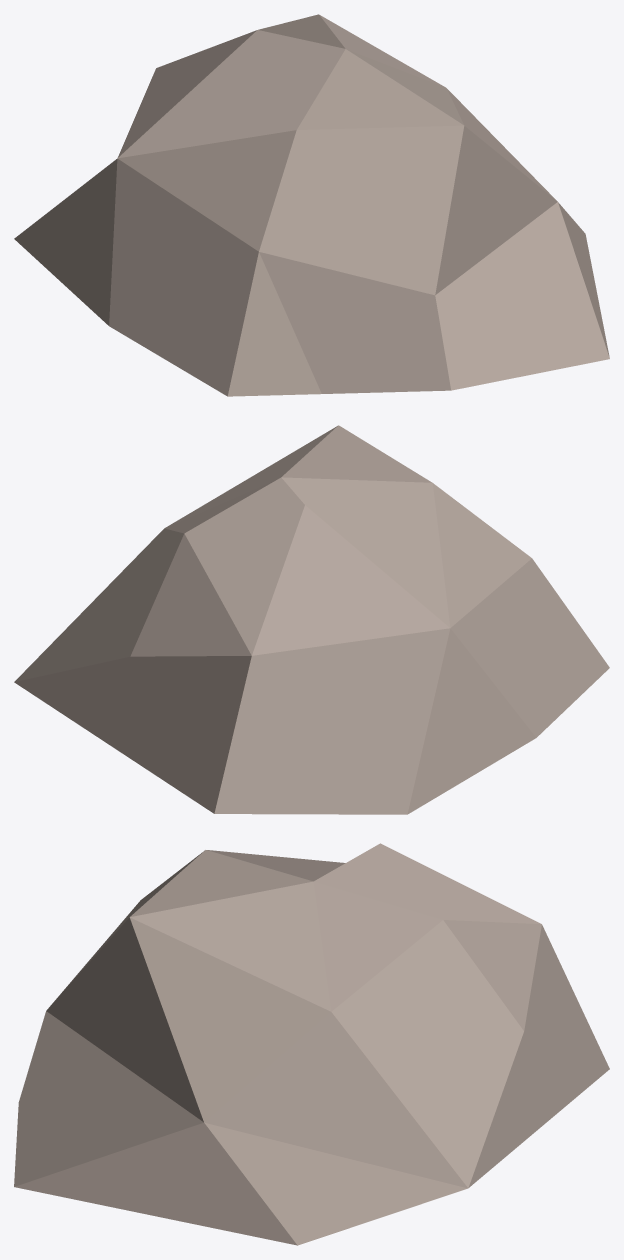
Rendered from SM_Rock3.fbx.
The picture shows the model from 3 angles, top to bottom: view 1: azimuth 30°, elevation 25°; view 2: azimuth 150°, elevation 25°; view 3: azimuth 270°, elevation 25°; orthographic projection. The views are drawn at different scales.
Visible parts, largest first — view 1: Rock3; view 2: Rock3; view 3: Rock3.
Boxes of the visible parts, x1,y1,x2,y2 form: Rock3: (14, 14, 609, 396); Rock3: (14, 425, 609, 814); Rock3: (14, 843, 609, 1245).
Bounding box in the file's own units: 5.23 × 2.56 × 5.41.
